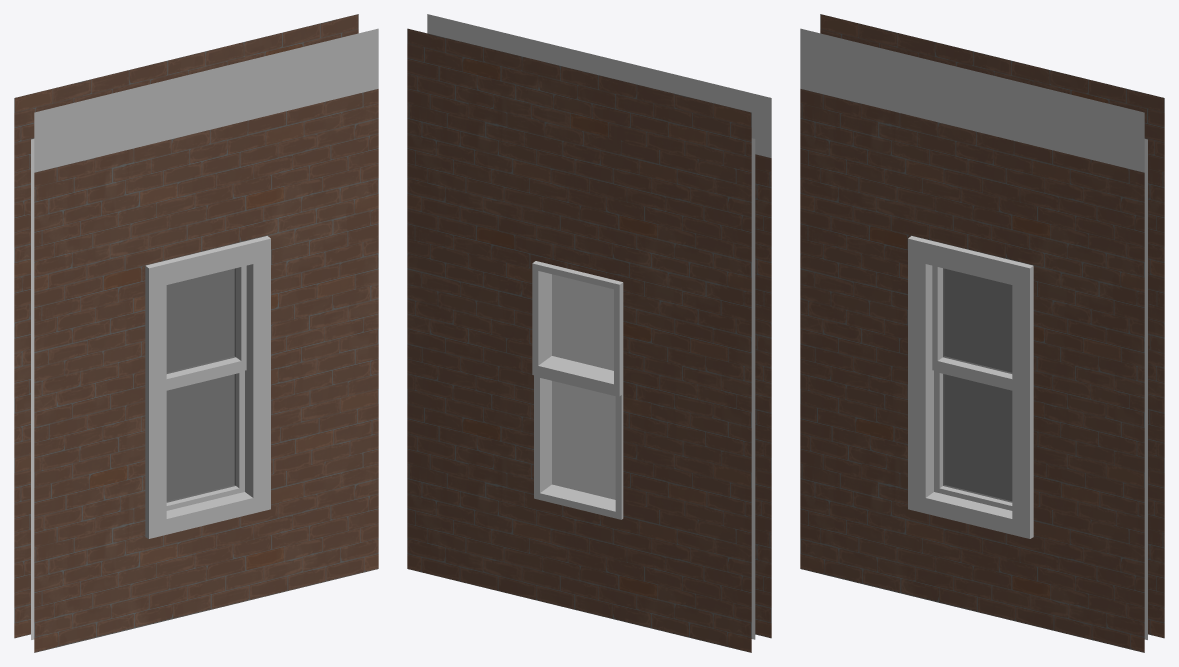
The model's file is Brick_Window_Square_Single.gltf.
3 views of the same model, side by side, from view 1: azimuth 30°, elevation 25°; view 2: azimuth 150°, elevation 25°; view 3: azimuth 330°, elevation 25° (orthographic).
Visible parts, largest first — view 1: Brick_Window_Square_Single; view 2: Brick_Window_Square_Single; view 3: Brick_Window_Square_Single.
Part boxes in pixels (x1=…): Brick_Window_Square_Single: x1=14, y1=14, x2=378, y2=652; Brick_Window_Square_Single: x1=407, y1=14, x2=771, y2=652; Brick_Window_Square_Single: x1=800, y1=14, x2=1164, y2=652.
Bounding box in the file's own units: 2 × 3 × 0.271.
